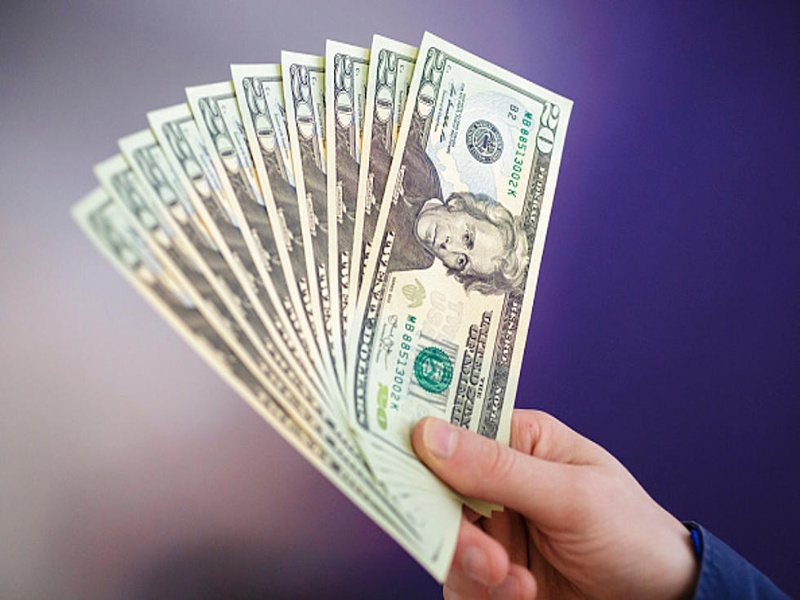cash: (72, 32, 573, 584)
